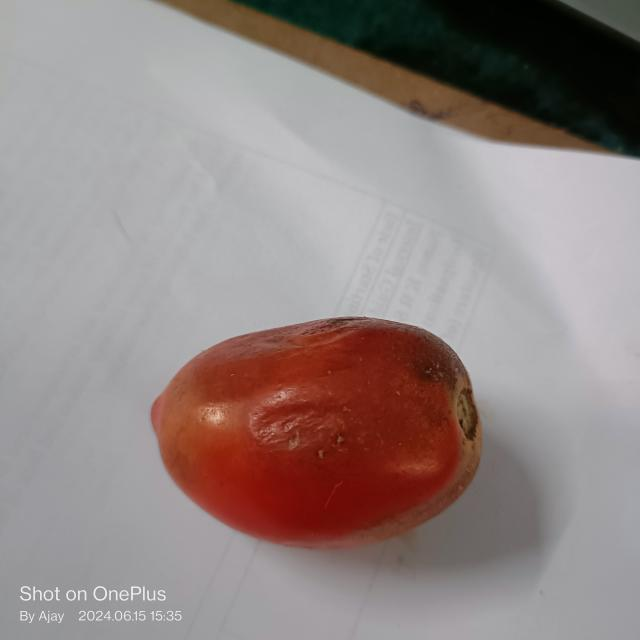Botrytis: (245, 396, 348, 455), (415, 345, 458, 390), (317, 318, 353, 328)
